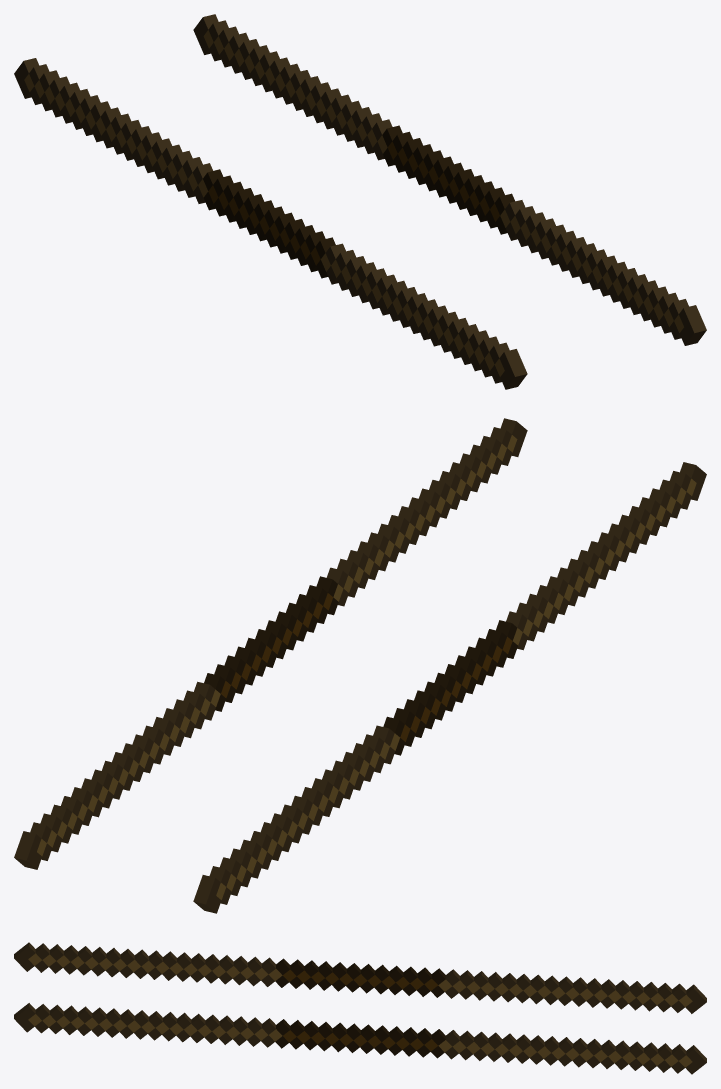
Rendered from wooden_staff.glb.
The picture shows the model from 3 angles, top to bottom: view 1: azimuth 30°, elevation 25°; view 2: azimuth 150°, elevation 25°; view 3: azimuth 270°, elevation 25°; orthographic projection. The views are drawn at different scales.
Visible parts, largest first — view 1: main__Tool_R, off__Tool_L; view 2: main__Tool_R, off__Tool_L; view 3: main__Tool_R, off__Tool_L.
Boxes of the visible parts, <box> form: main__Tool_R: <box>193,14,706,345</box>; off__Tool_L: <box>14,58,527,389</box>; main__Tool_R: <box>14,418,527,869</box>; off__Tool_L: <box>193,462,706,913</box>; main__Tool_R: <box>14,1003,706,1074</box>; off__Tool_L: <box>14,942,706,1013</box>.
Size of the model in its own units: 0.8025 by 0.3915 by 3.63.
Materials: 1 (1 with a texture image).
